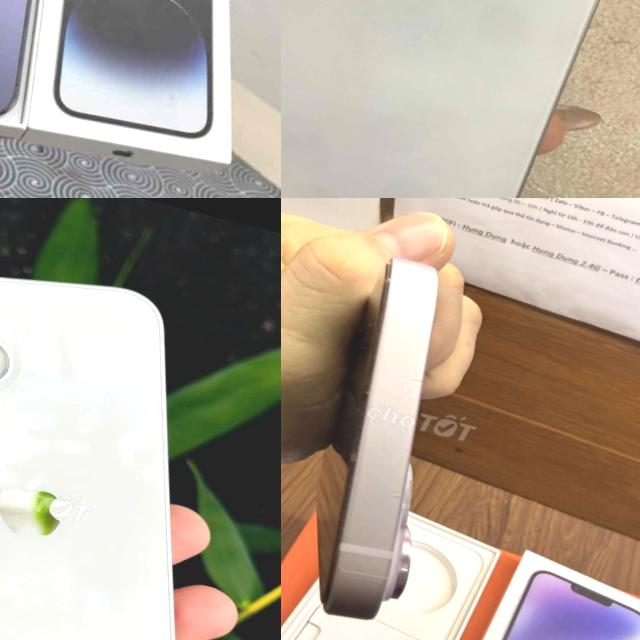gen_12_13: (0, 226, 278, 640)
gen_14: (282, 235, 502, 638)
gen_15: (281, 0, 640, 198)
